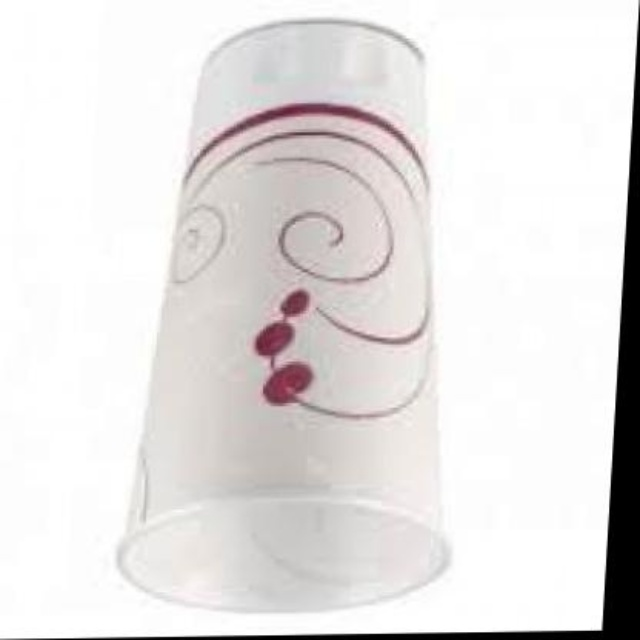trash: (118, 20, 445, 609)
